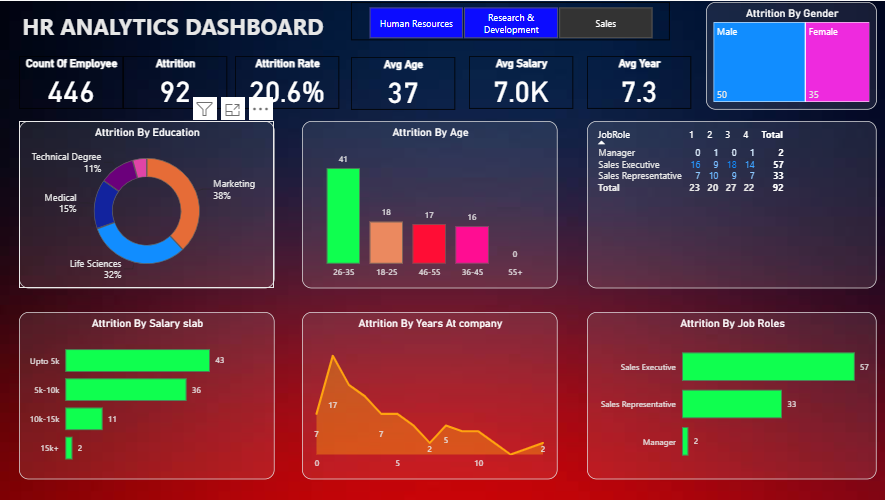

The dashboard page shown, as its layout file describes it:
{"tool":"powerbi","page":{"name":"Page 1","canvas":[1280,720],"ordinal":0},"visuals":[{"type":"card","title":"Count Of Employee","fields":{"Values":["CountNonNull(HR_Analytics (1).EmpID)"]},"box":[29.9,79.2,149.7,75.7],"z":0},{"type":"card","title":"Attrition","fields":{"Values":["Sum(HR_Analytics (1).AttritionCount)"]},"box":[179.6,79.2,149.7,75.7],"z":1000},{"type":"card","title":"Avg Age","fields":{"Values":["Avg(HR_Analytics (1).Age)"]},"box":[508.8,81,149.7,75.7],"z":2000},{"type":"card","title":"Attrition Rate","fields":{"Values":["HR_Analytics (1).AttritionRate"]},"box":[341.6,79.2,149.7,75.7],"z":3000},{"type":"card","title":"Avg Salary","fields":{"Values":["Avg(HR_Analytics (1).MonthlyIncome)"]},"box":[677.9,79.2,149.7,75.7],"z":4000},{"type":"card","title":"Avg Year","fields":{"Values":["Avg(HR_Analytics (1).YearsAtCompany)"]},"box":[848.6,79.2,149.7,75.7],"z":5000},{"type":"donutChart","title":"Attrition By Education","fields":{"Category":["HR_Analytics (1).EducationField"],"Y":["Sum(HR_Analytics (1).AttritionCount)"]},"box":[29.9,172.5,368,241.2],"z":6000},{"type":"columnChart","title":"Attrition By Age","fields":{"Category":["HR_Analytics (1).AgeGroup"],"Y":["Sum(HR_Analytics (1).AttritionCount)"]},"box":[438.4,172.5,368,241.2],"z":7000},{"type":"pivotTable","fields":{"Rows":["HR_Analytics (1).JobRole"],"Columns":["HR_Analytics (1).JobSatisfaction"],"Values":["Sum(HR_Analytics (1).AttritionCount)"]},"box":[848.6,172.5,417.3,241.2],"z":8000},{"type":"barChart","title":"Attrition By Salary slab","fields":{"Category":["HR_Analytics (1).SalarySlab"],"Y":["Sum(HR_Analytics (1).AttritionCount)"]},"box":[29.9,447.2,368,241.2],"z":9000},{"type":"barChart","title":"Attrition By Job Roles","fields":{"Category":["HR_Analytics (1).JobRole"],"Y":["Sum(HR_Analytics (1).AttritionCount)"]},"box":[848.6,447.2,417.3,241.2],"z":10000},{"type":"stackedAreaChart","title":"Attrition By Years  At company ","fields":{"Category":["HR_Analytics (1).YearsAtCompany"],"Y":["Sum(HR_Analytics (1).AttritionCount)"]},"box":[438.4,447.2,368,241.2],"z":11000},{"type":"treemap","title":"Attrition By Gender","fields":{"Group":["HR_Analytics (1).Gender"],"Values":["Sum(HR_Analytics (1).AttritionCount)"]},"box":[1019.4,1.8,246.5,154.9],"z":12000},{"type":"slicer","fields":{"Values":["HR_Analytics (1).Department"]},"box":[508.3,1.4,459.4,54.7],"z":13000},{"type":"textbox","box":[29.9,8.8,508.8,54.6],"z":14000}]}

Visuals, with their boxes in screenshot pixels (x1, y1, x2, y2), scaled from the page's 1280x720 canvas onto the 885x500 screenshot:
"Count Of Employee" card: 21,55,124,108
"Attrition" card: 124,55,228,108
"Avg Age" card: 352,56,455,109
"Attrition Rate" card: 236,55,340,108
"Avg Salary" card: 469,55,572,108
"Avg Year" card: 587,55,690,108
"Attrition By Education" donutChart: 21,120,275,287
"Attrition By Age" columnChart: 303,120,558,287
pivotTable - HR_Analytics (1).JobRole x HR_Analytics (1).JobSatisfaction: 587,120,875,287
"Attrition By Salary slab" barChart: 21,311,275,478
"Attrition By Job Roles" barChart: 587,311,875,478
"Attrition By Years  At company " stackedAreaChart: 303,311,558,478
"Attrition By Gender" treemap: 705,1,875,109
slicer - HR_Analytics (1).Department: 351,1,669,39
textbox: 21,6,372,44
